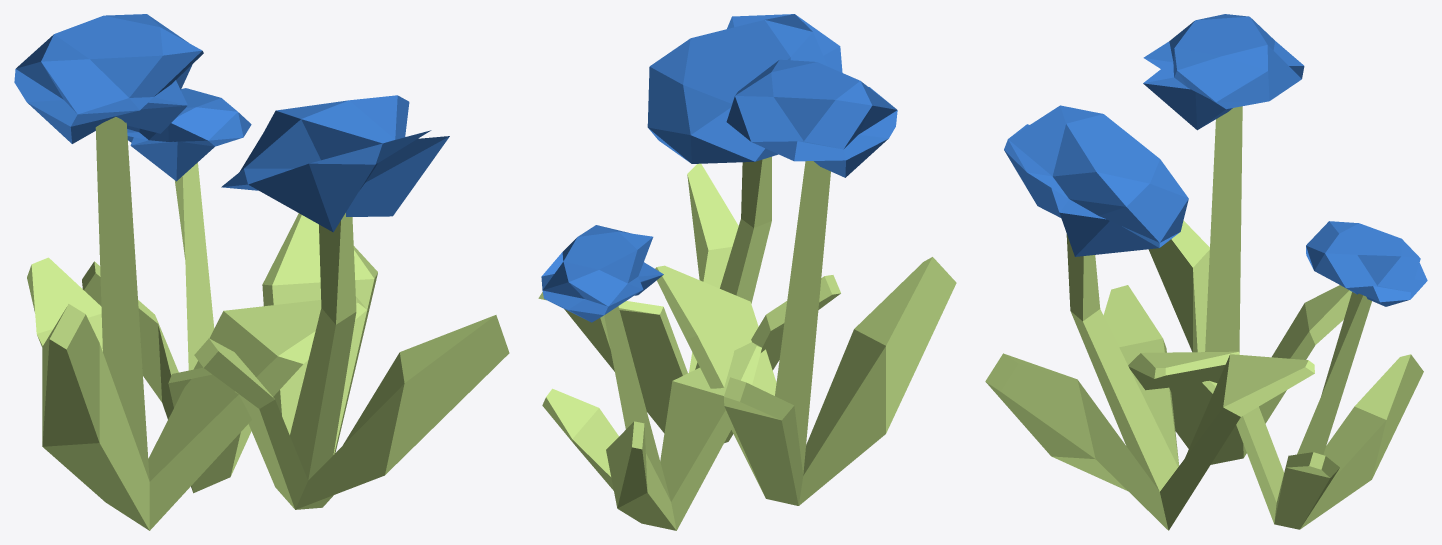
The model's file is lowPolyTiles_flowers02.fbx.
3 views of the same model, side by side, from view 1: azimuth 30°, elevation 25°; view 2: azimuth 150°, elevation 25°; view 3: azimuth 270°, elevation 25° (orthographic). The views are drawn at different scales.
Parts seen in each view (by area): view 1: lowPolyTiles_flowers02; view 2: lowPolyTiles_flowers02; view 3: lowPolyTiles_flowers02.
Boxes of the visible parts, x1,y1,x2,y2 form: lowPolyTiles_flowers02: [14, 14, 509, 530]; lowPolyTiles_flowers02: [538, 14, 956, 530]; lowPolyTiles_flowers02: [985, 14, 1427, 530].
Size of the model in its own units: 37.25 by 46.85 by 42.75.
